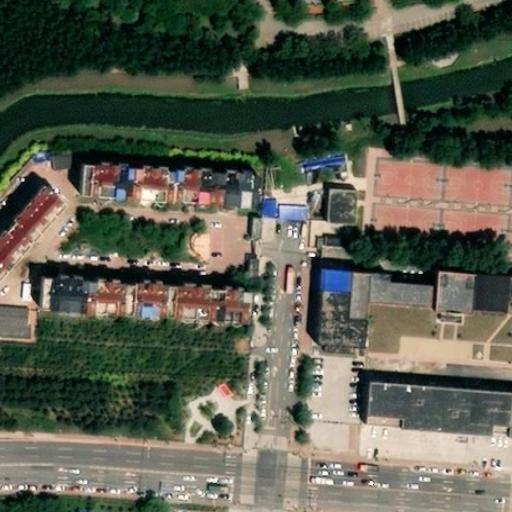building: (37, 282, 246, 335), (346, 275, 512, 338), (84, 173, 260, 220), (370, 405, 512, 460), (371, 149, 511, 202), (0, 194, 70, 285), (299, 273, 349, 355), (278, 176, 345, 205), (329, 204, 362, 243), (297, 145, 345, 170), (0, 302, 31, 338), (46, 146, 72, 168), (242, 252, 259, 276)
